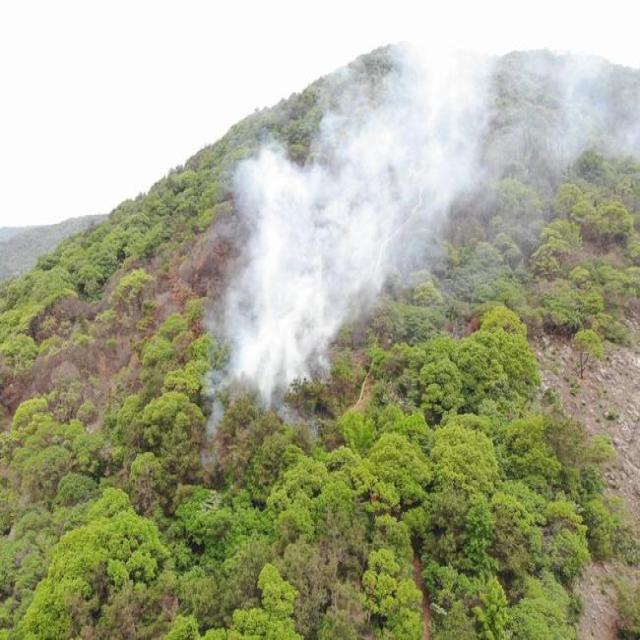Smoke: (225, 3, 497, 390)
